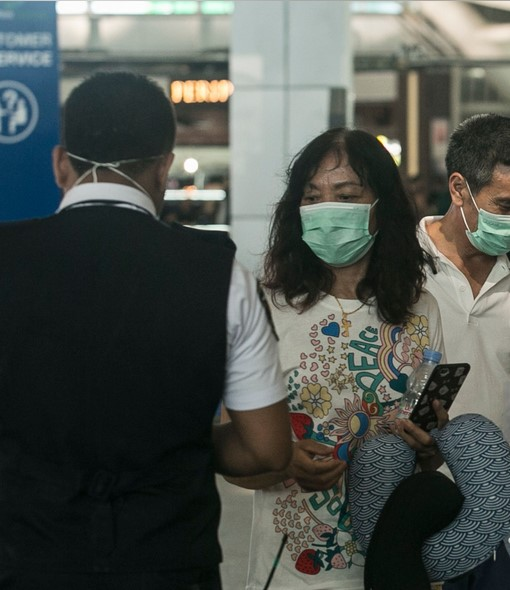face_with_mask: (289, 129, 398, 272), (446, 111, 509, 261)
